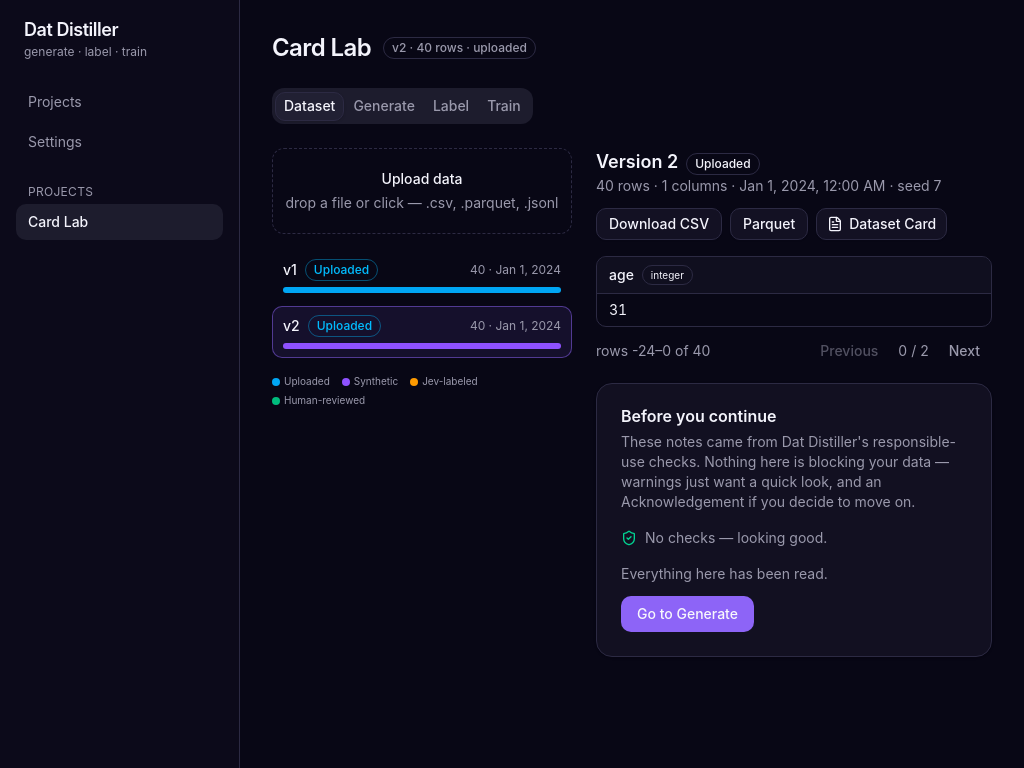
Scenario: Dataset Cards — from the history panel › reports a Card it could not read, and does not show an empty document
Click the button "Dataset Card" at (882, 224), box [816,208,947,240]
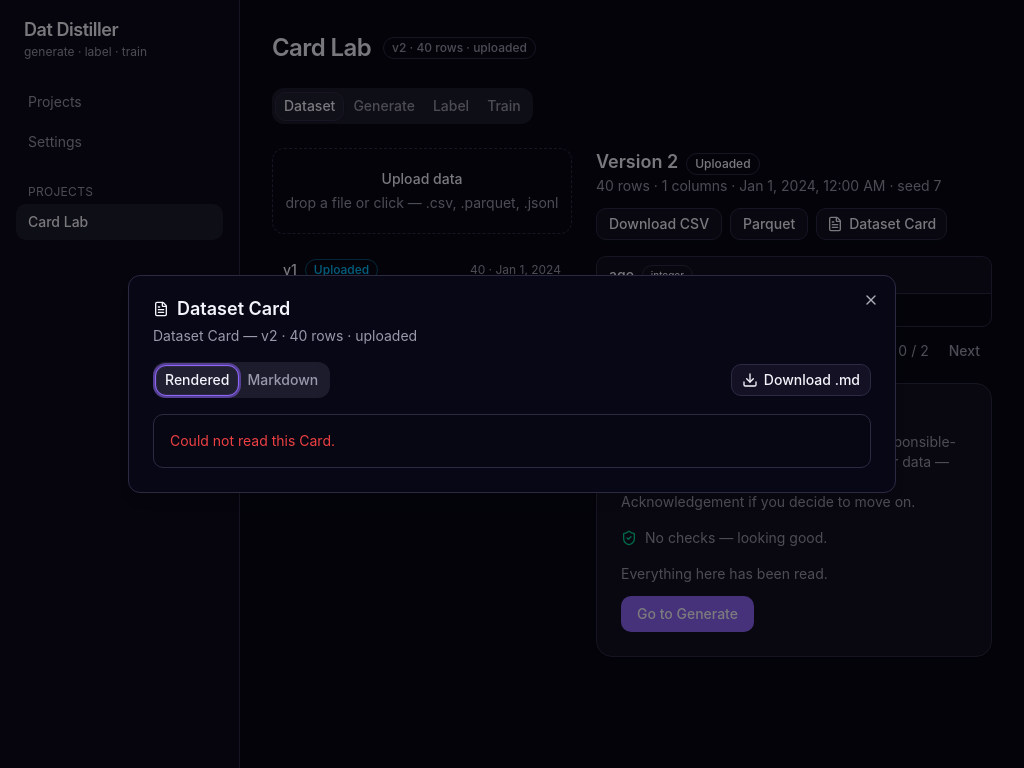
Result: the message shows "Could not read this Card" at [170,432,335,449]
